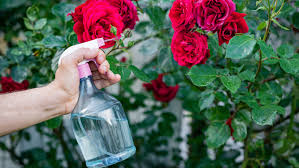rose: (167, 1, 251, 68), (74, 1, 140, 52)
